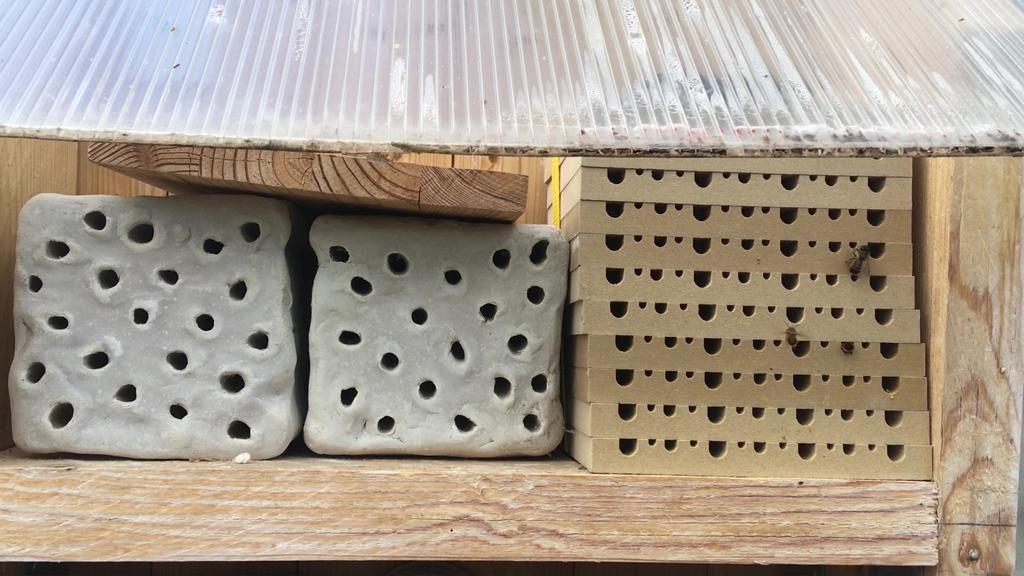bee: (834, 334, 859, 361)
